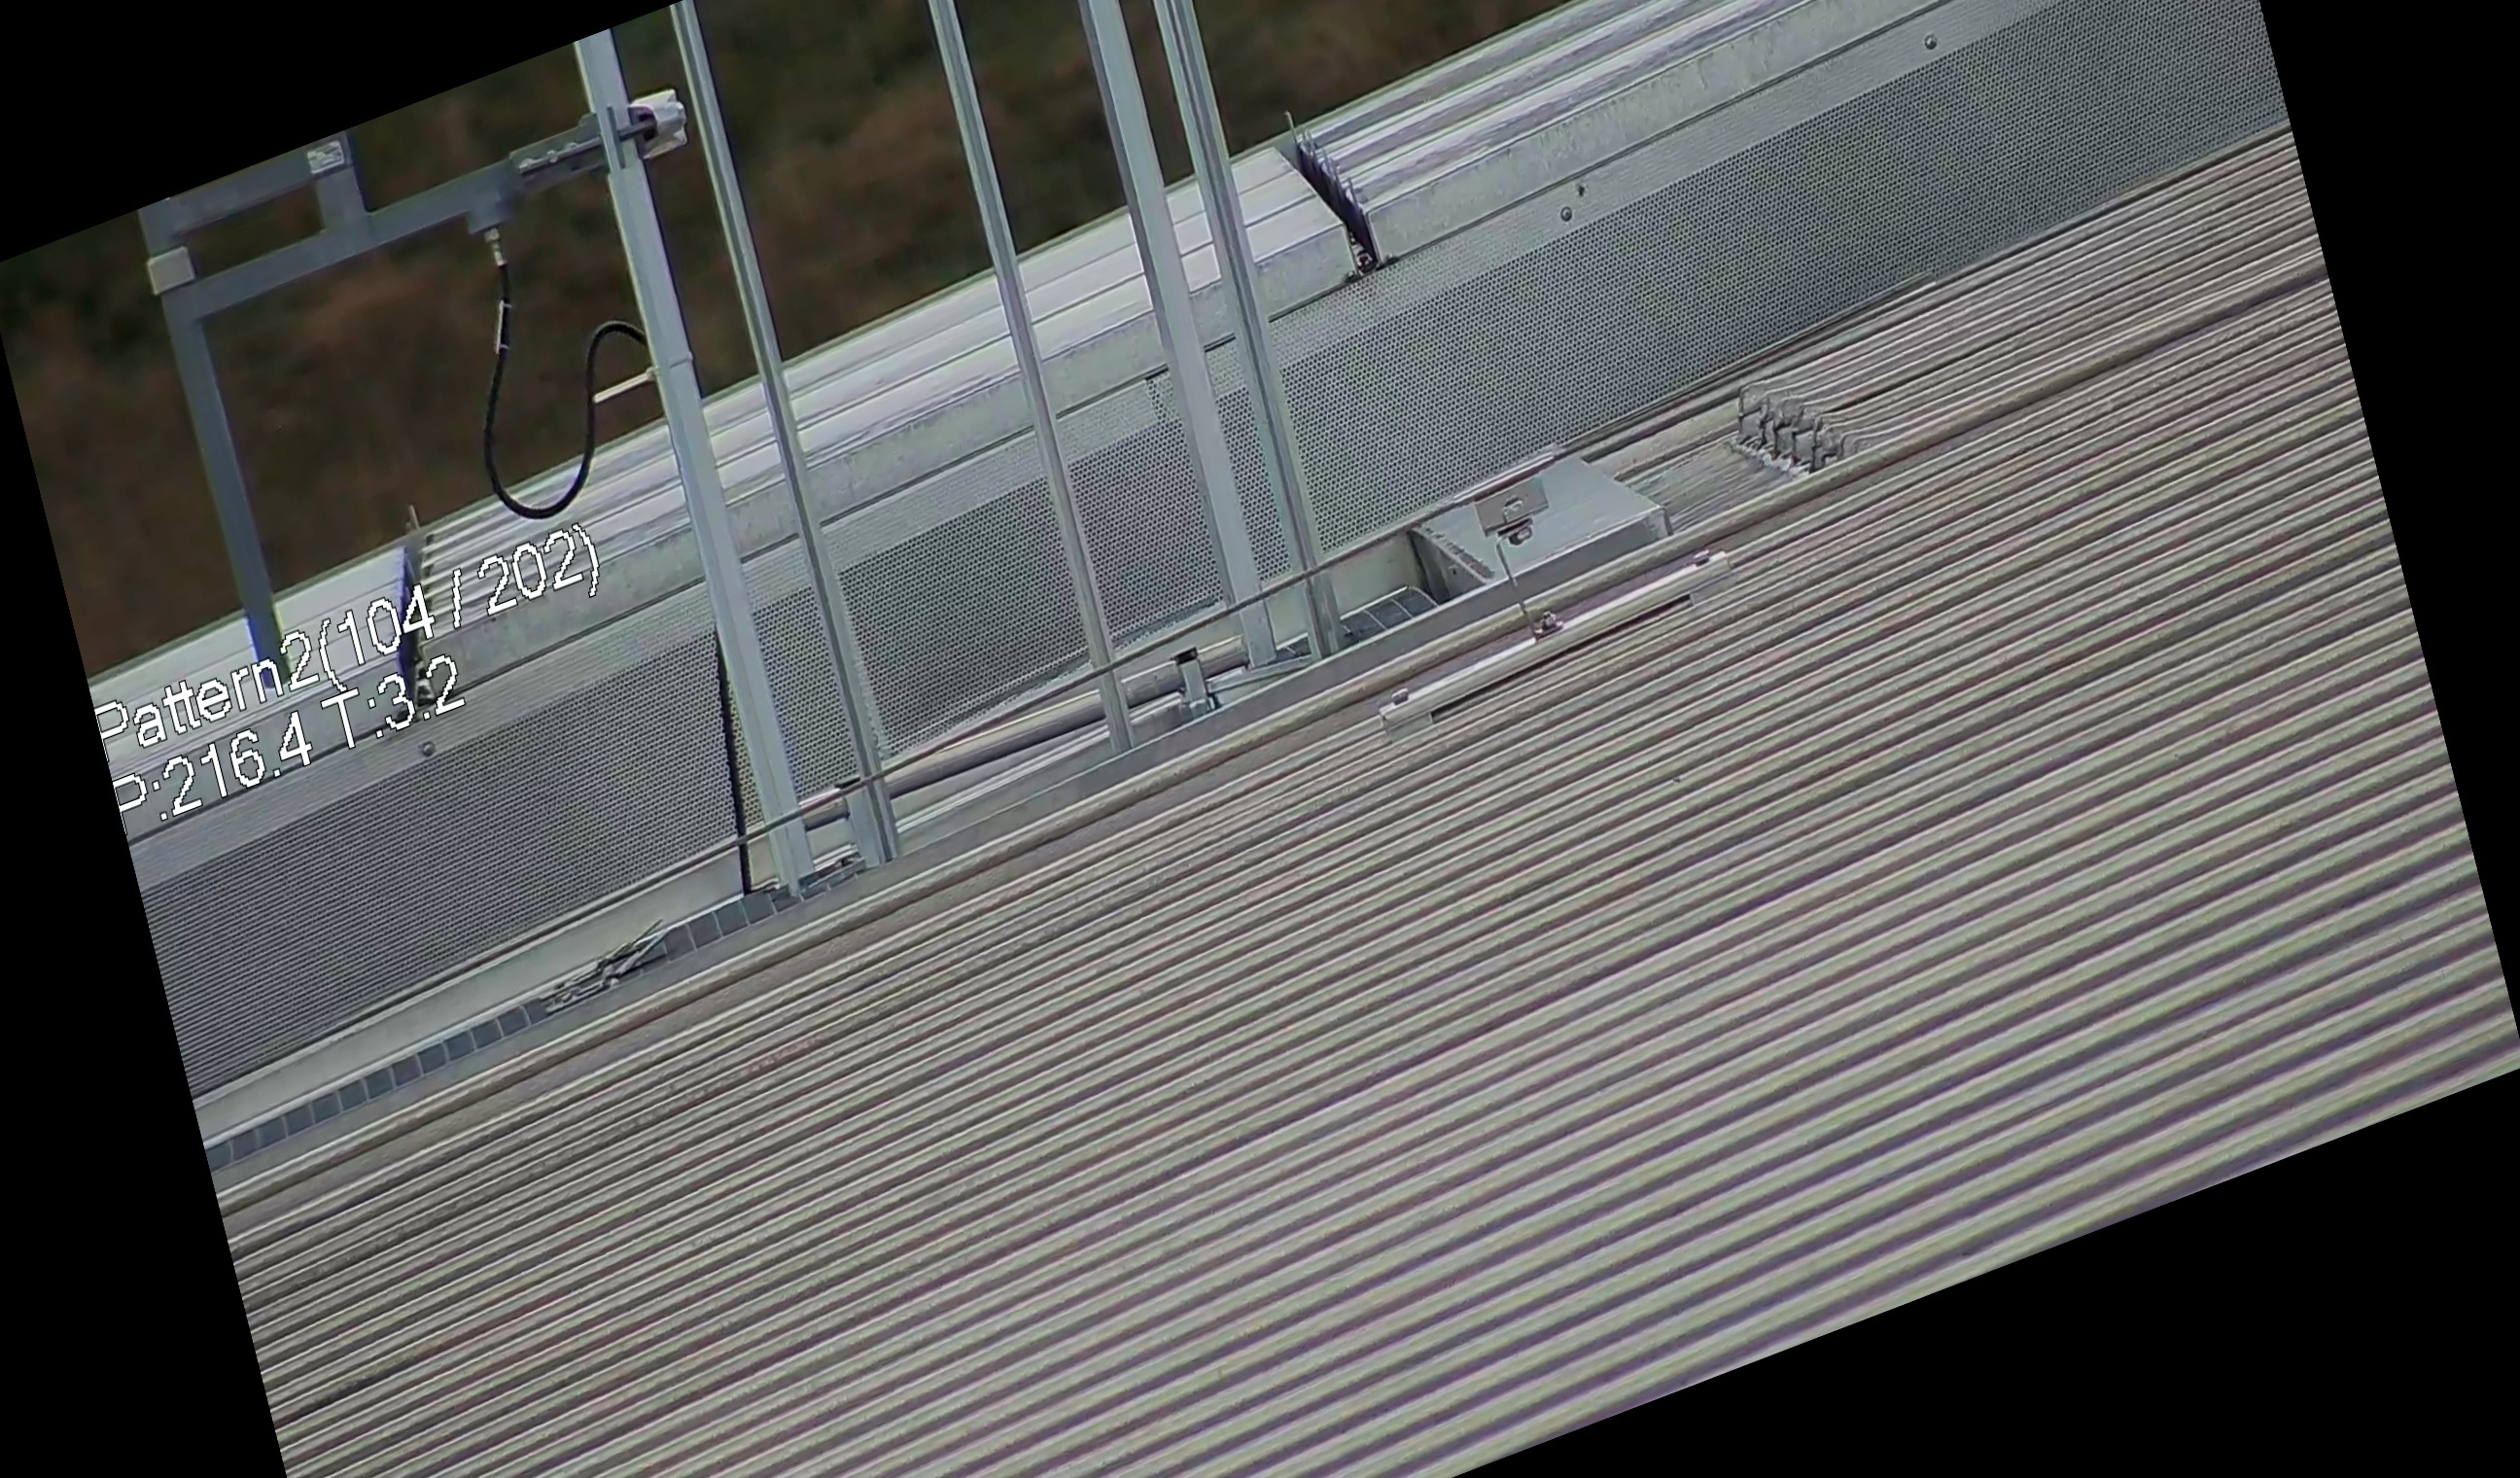Other: (1252, 72, 1396, 303)
